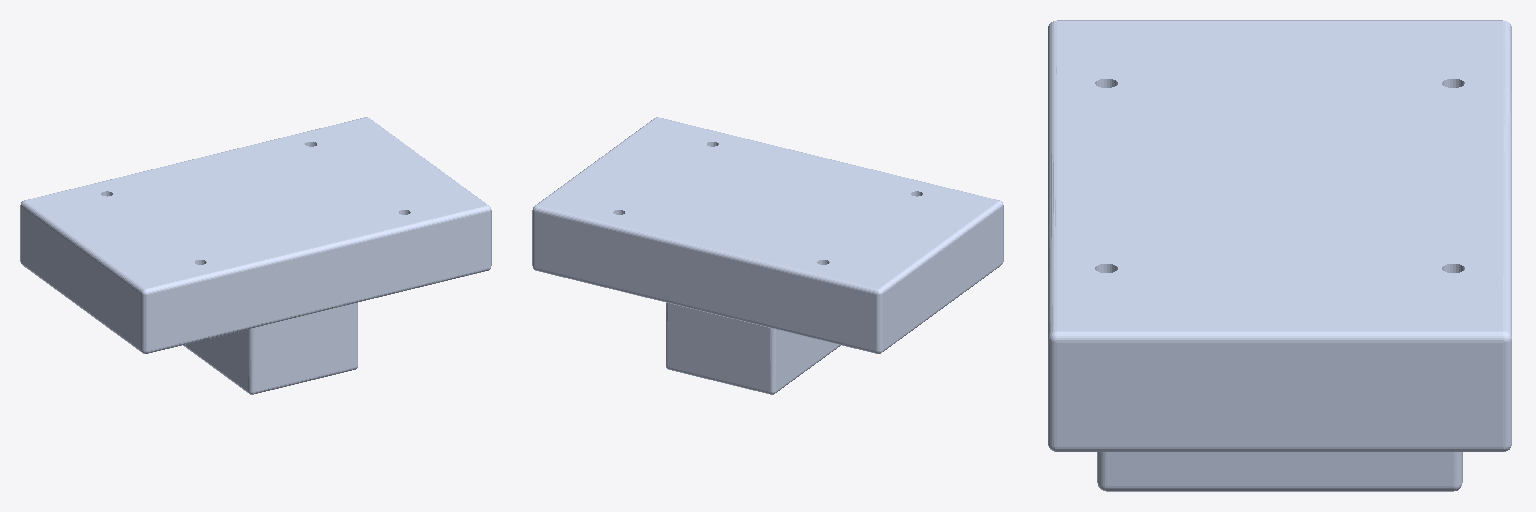
URDF robot description (MPO_700_body_simple.SLDPRT):
<robot
  name="MPO_700_body_simple.SLDPRT">
  <link
    name="MPO_700_body_simple.SLDPRT">
    <inertial>
      <origin
        xyz="9.0945E-08 0.11085 5.78379999932126E-08"
        rpy="0 0 0" />
      <mass
        value="213.62" />
      <inertia
        ixx="5.60770884492841"
        ixy="-4.11605519228379E-06"
        ixz="3.85738134473503E-07"
        iyy="-2.46366447679449E-07"
        iyz="-13.6550522201205"
        izz="2.46366449183256E-07" />
    </inertial>
    <visual>
      <origin
        xyz="1.5707963267949 0 0"
        rpy="0 0 0" />
      <geometry>
        <mesh
          filename="package://MPO_700_body_simple.SLDPRT/meshes/MPO_700_body_simple.SLDPRT.STL" />
      </geometry>
      <material
        name="">
        <color
          rgba="0.86667 0.9098 1 1" />
      </material>
    </visual>
    <collision>
      <origin
        xyz="0 0 0"
        rpy="1.5707963267949 0 0" />
      <geometry>
        <mesh
          filename="package://MPO_700_body_simple.SLDPRT/meshes/MPO_700_body_simple.SLDPRT.STL" />
      </geometry>
    </collision>
  </link>
</robot>

--- Facts derived from the render (not from the file) ---
The picture shows the robot from 3 angles, left to right: view 1: azimuth 30°, elevation 25°; view 2: azimuth 150°, elevation 25°; view 3: azimuth 270°, elevation 25°; orthographic projection.
Robot: MPO_700_body_simple.SLDPRT — 1 links, 0 joints (none); root link MPO_700_body_simple.SLDPRT; default pose: every joint at zero.
Links seen in each view (by area): view 1: MPO_700_body_simple.SLDPRT; view 2: MPO_700_body_simple.SLDPRT; view 3: MPO_700_body_simple.SLDPRT.
Link boxes in pixels (left/top/right/bottom): MPO_700_body_simple.SLDPRT: left=20, top=117, right=491, bottom=394; MPO_700_body_simple.SLDPRT: left=532, top=117, right=1003, bottom=394; MPO_700_body_simple.SLDPRT: left=1048, top=20, right=1511, bottom=491.
Size in the robot's own frame: 0.8218 by 0.509 by 0.325 metres.
1 mesh visuals loaded from 1 distinct referenced files (1 binary STL).